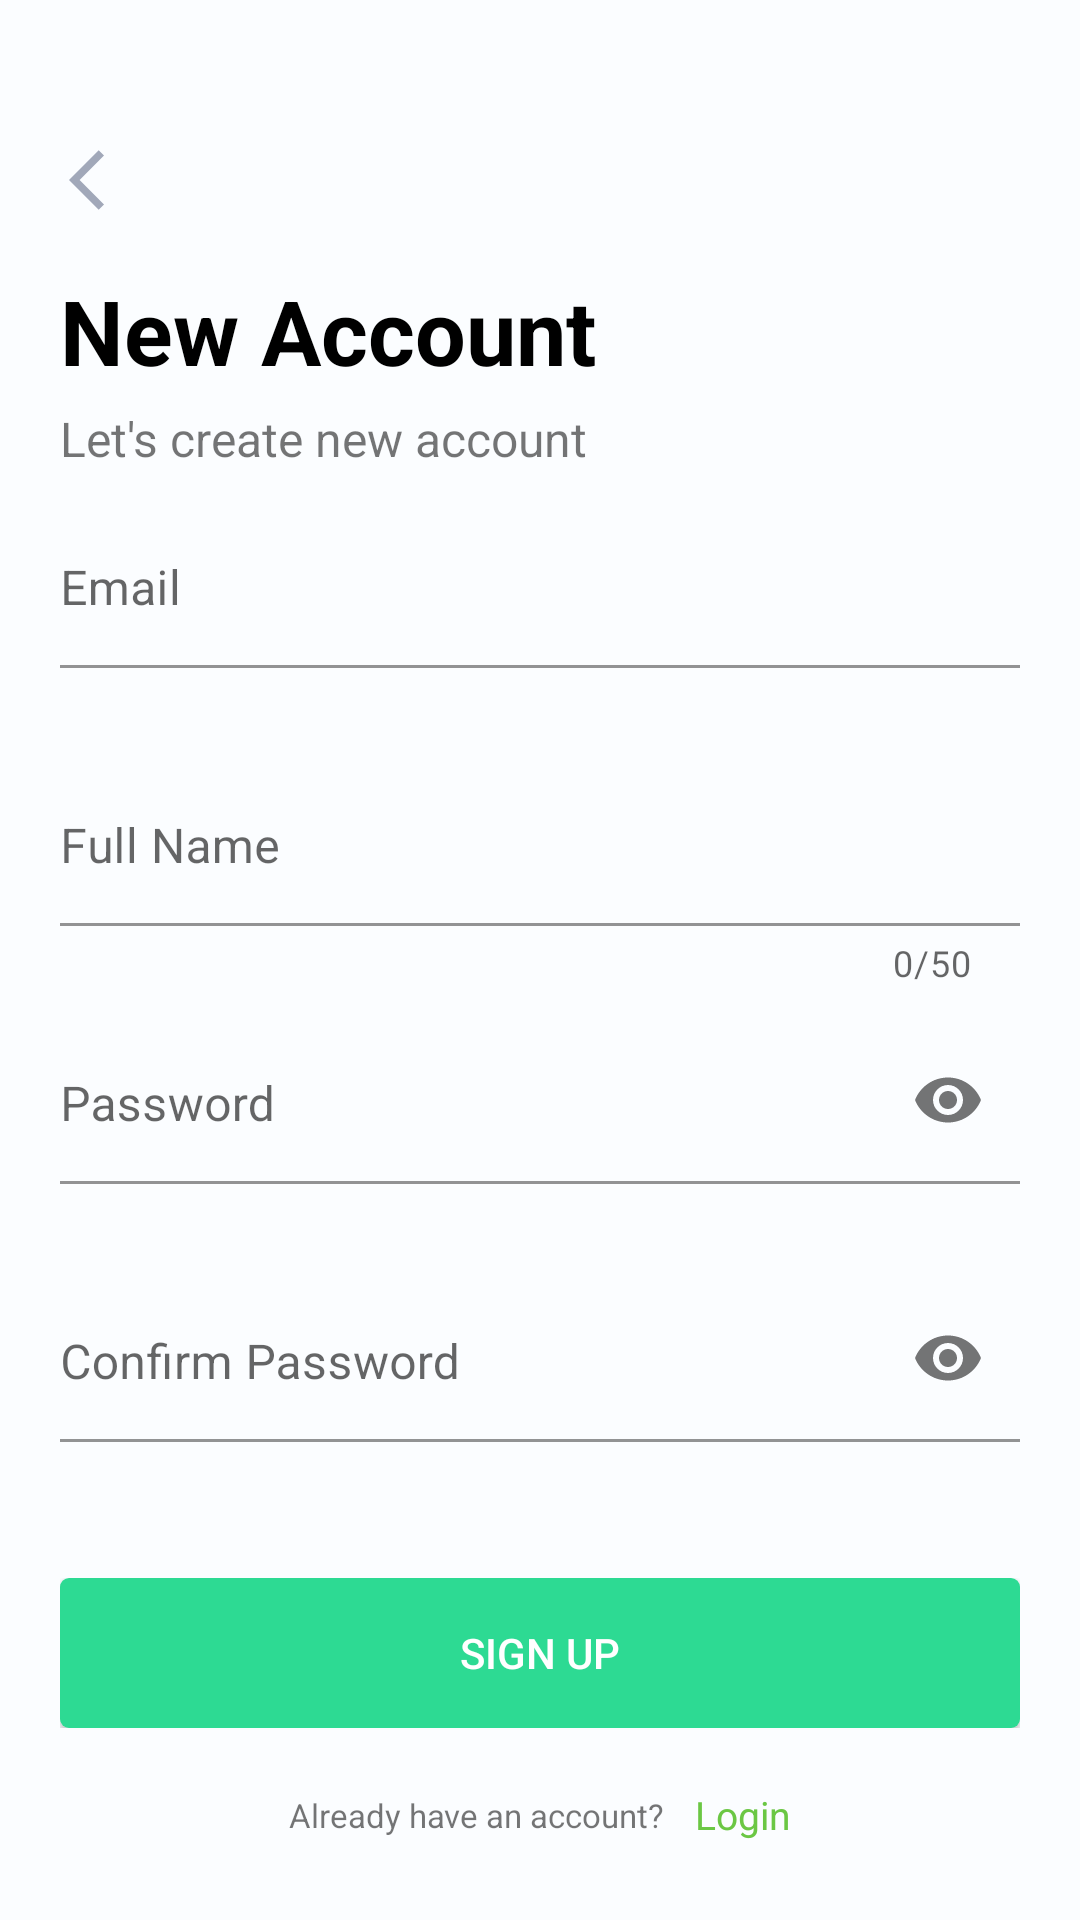

Point at icon controls on the screen. Image size 1080px×1920px, points as [x,y].
back: [86,180]
